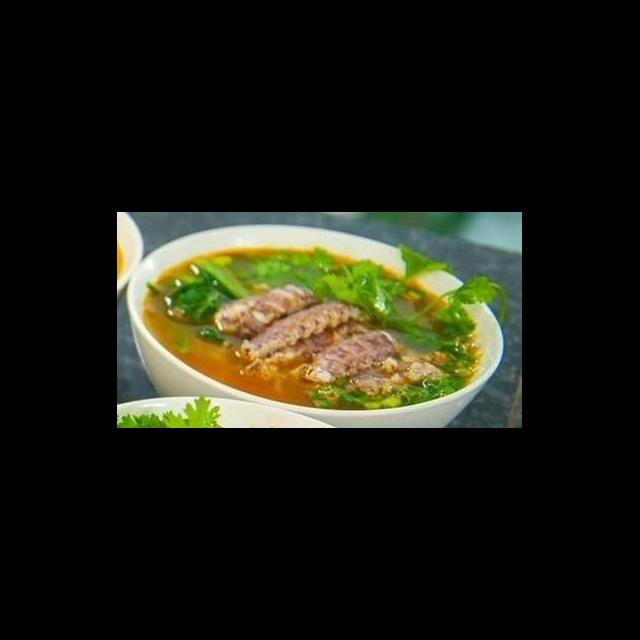tom tit: (234, 296, 370, 364), (294, 328, 408, 389), (228, 278, 326, 342)
